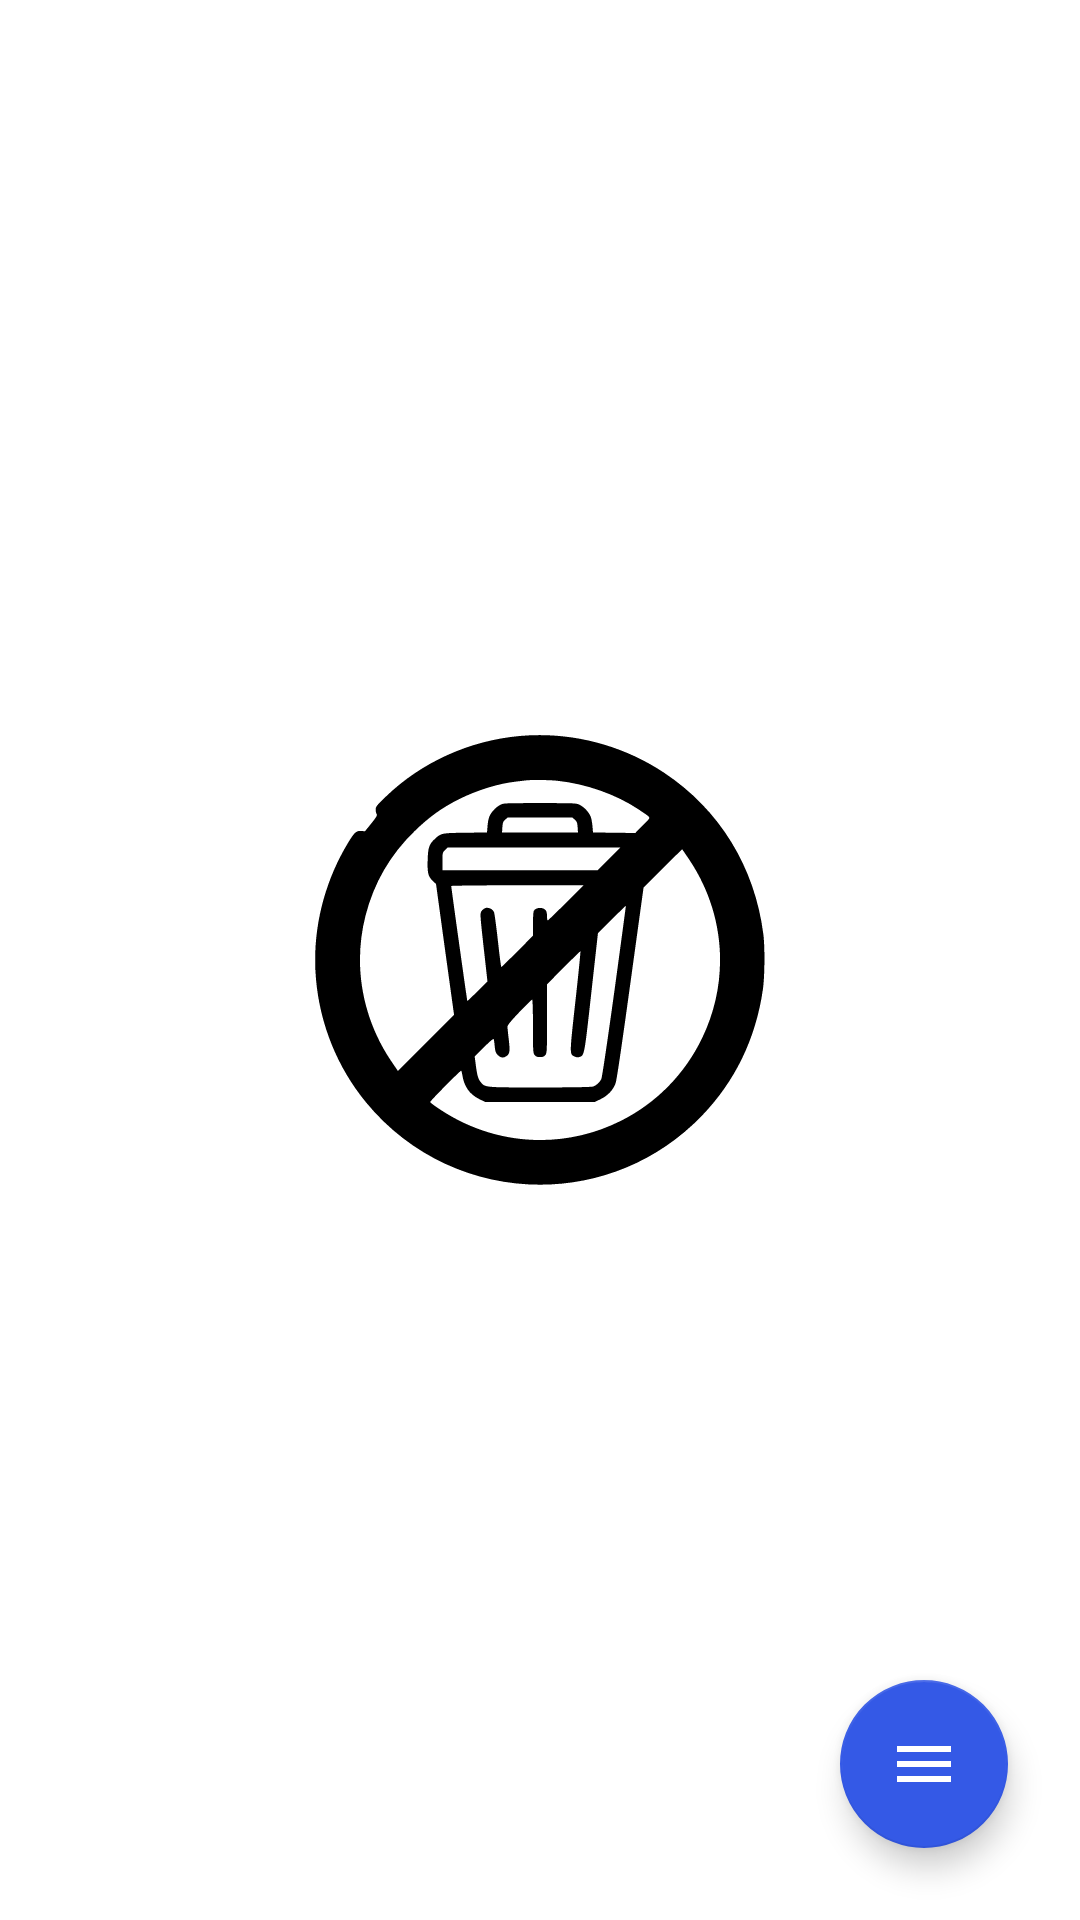

Named icons in this screenshot (1080px x 1920px) and their bounding boxes, {"x1": x1, "y1": y1, "x2": x2, "y2": y2}:
menu: {"x1": 840, "y1": 1680, "x2": 1008, "y2": 1848}
